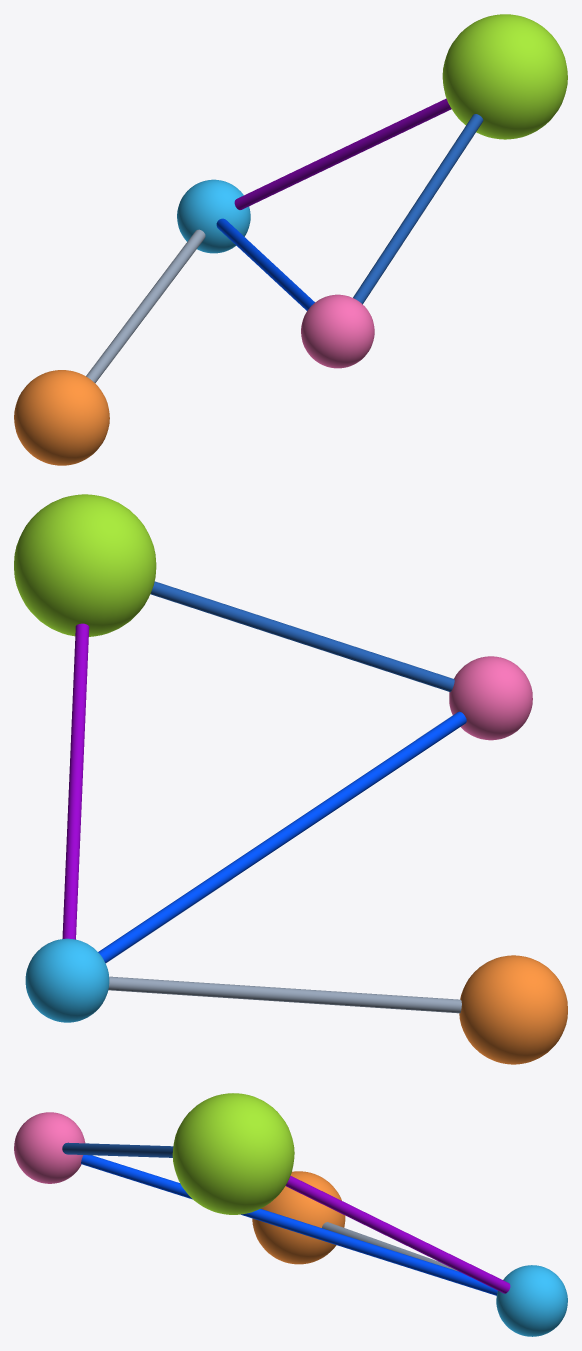
Rendered from asset.glb.
The picture shows the model from 3 angles, top to bottom: view 1: azimuth 30°, elevation 25°; view 2: azimuth 150°, elevation 25°; view 3: azimuth 270°, elevation 25°; orthographic projection. The views are drawn at different scales.
Visible parts, largest first — view 1: Node_3, Node_4, Node_2, Node_1, Edge_3, Edge_2, Edge_4, Edge_1; view 2: Node_3, Node_4, Edge_1, Node_1, Node_2, Edge_4, Edge_2, Edge_3; view 3: Node_3, Node_4, Edge_1, Node_1, Node_2, Edge_3, Edge_2, Edge_4.
Part boxes in pixels (<box>): Node_3: <box>442,14,567,139</box>; Node_4: <box>14,370,109,465</box>; Node_2: <box>301,294,374,368</box>; Node_1: <box>177,179,250,253</box>; Edge_3: <box>234,98,451,209</box>; Edge_2: <box>353,114,483,304</box>; Edge_4: <box>86,229,205,383</box>; Edge_1: <box>216,218,314,310</box>; Node_3: <box>14,494,156,636</box>; Node_4: <box>459,955,567,1064</box>; Edge_1: <box>98,711,466,963</box>; Node_1: <box>25,938,109,1022</box>; Node_2: <box>449,656,532,740</box>; Edge_4: <box>108,976,461,1013</box>; Edge_2: <box>150,581,454,691</box>; Edge_3: <box>62,623,89,939</box>; Node_3: <box>172,1093,294,1214</box>; Node_4: <box>252,1171,345,1264</box>; Edge_1: <box>81,1155,497,1295</box>; Node_1: <box>496,1265,567,1336</box>; Node_2: <box>14,1112,85,1183</box>; Edge_3: <box>285,1175,510,1293</box>; Edge_2: <box>62,1142,173,1157</box>; Edge_4: <box>322,1222,458,1271</box>.
Bounding box in the file's own units: 8.7 × 6.02 × 8.49.
